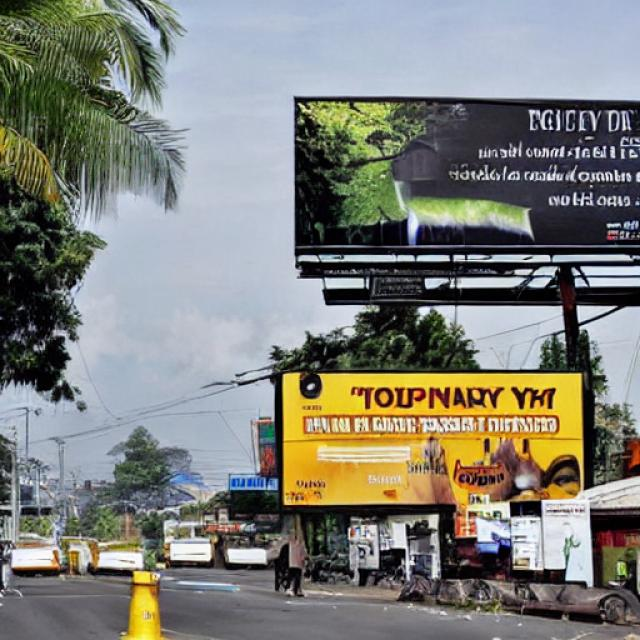Billboard: (293, 96, 640, 280), (270, 363, 592, 519)
